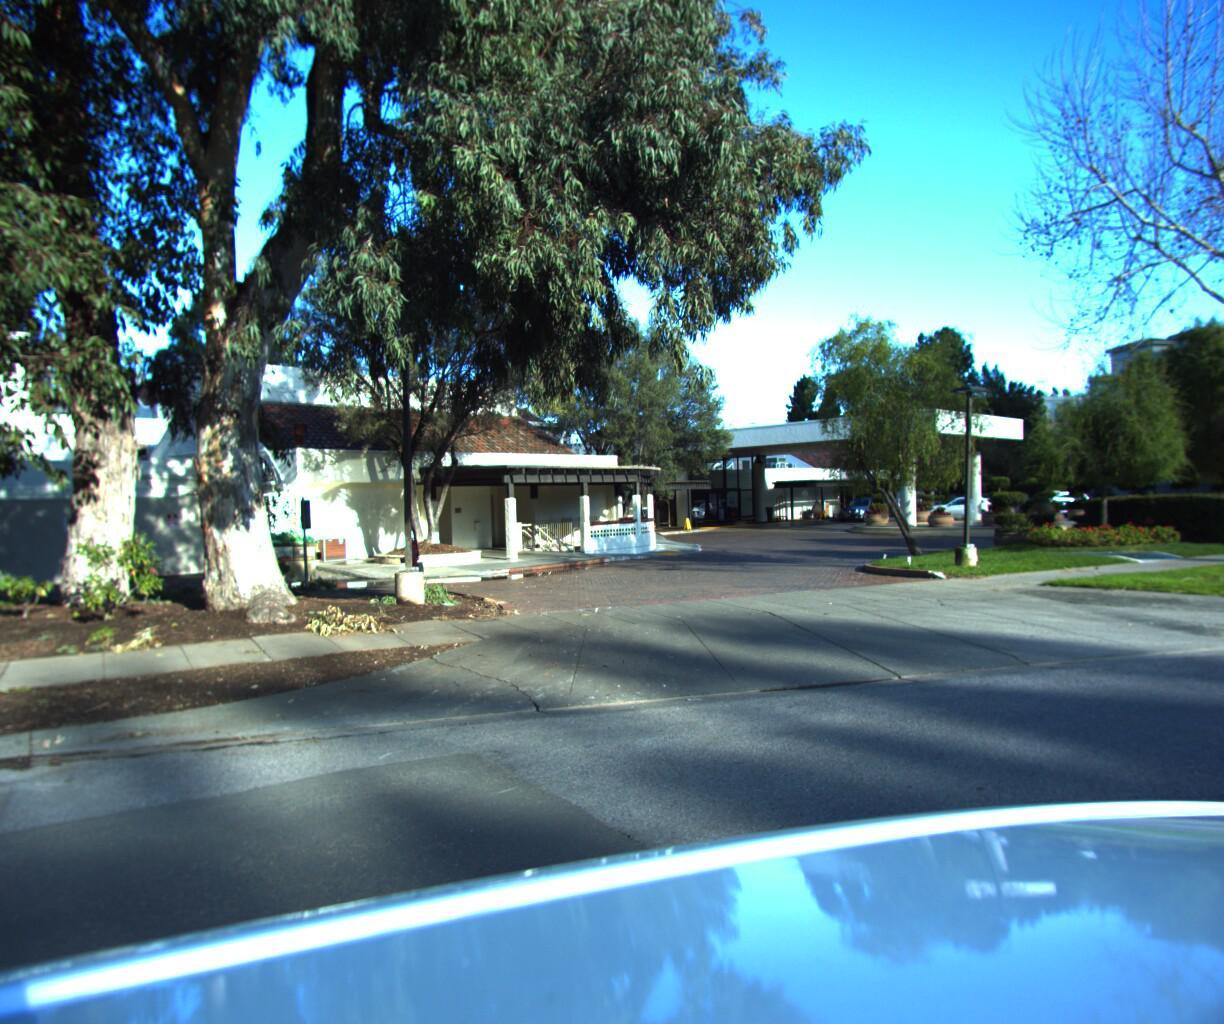car: (925, 489, 1005, 516), (837, 491, 898, 518)
